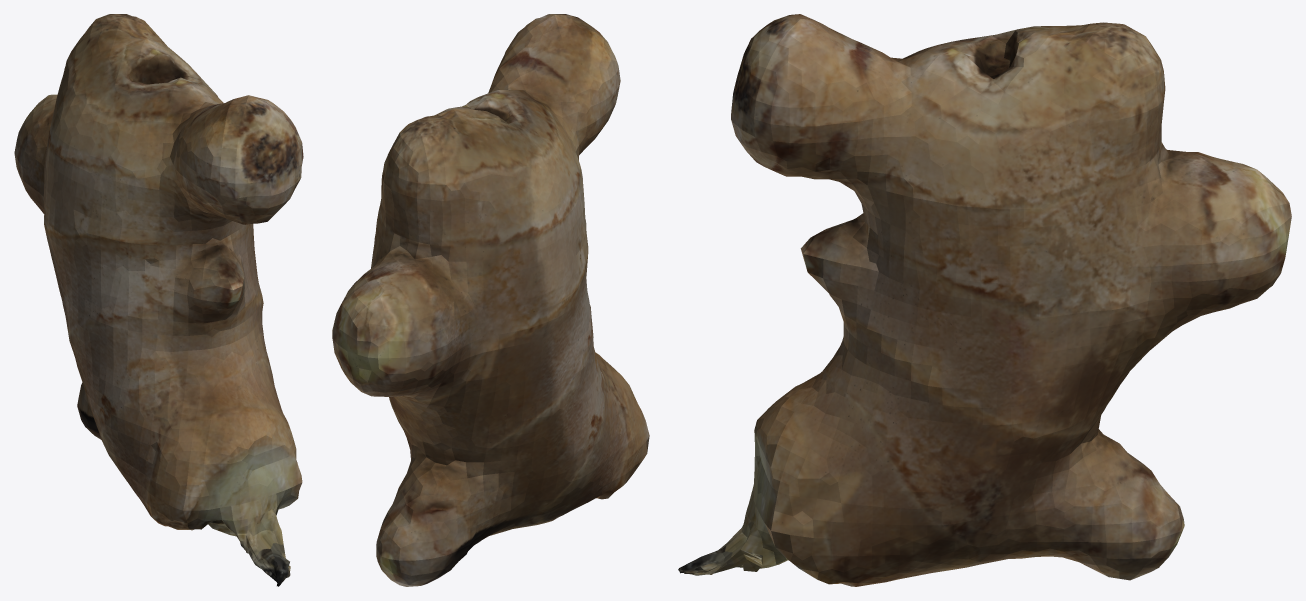
File: ginger.glb
The picture shows the model from 3 angles, left to right: view 1: azimuth 30°, elevation 25°; view 2: azimuth 150°, elevation 25°; view 3: azimuth 270°, elevation 25°; orthographic projection. The views are drawn at different scales.
Visible parts, largest first — view 1: Ginger_LP; view 2: Ginger_LP; view 3: Ginger_LP.
Boxes of the visible parts, left/top/right/bottom form: Ginger_LP: left=14, top=14, right=303, bottom=586; Ginger_LP: left=332, top=14, right=649, bottom=586; Ginger_LP: left=678, top=14, right=1291, bottom=586.
Size of the model in its own units: 13.36 by 32.91 by 32.35.
Materials: 1 (1 with a texture image).
